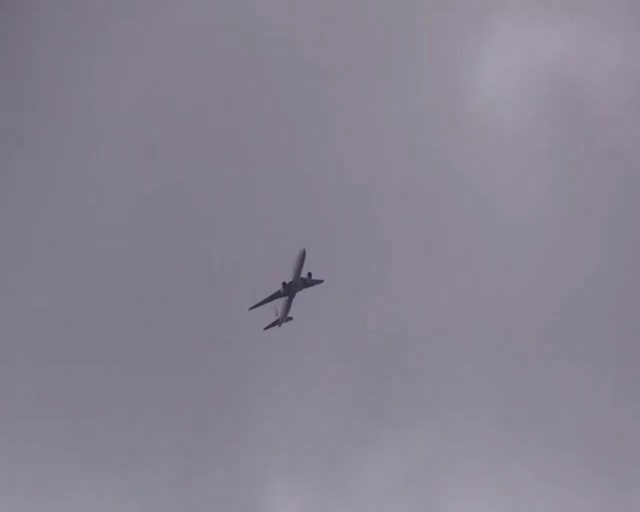AIRPLANE: (249, 247, 324, 330)
